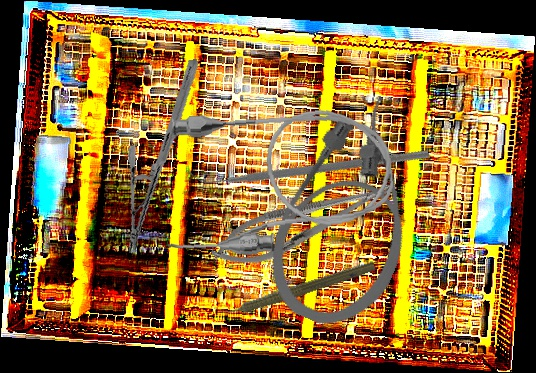Cannula: (249, 79, 456, 343), (157, 99, 398, 262)
Chopper: (185, 43, 432, 282)
Handpiece: (213, 254, 377, 325)
Needle Holder: (94, 58, 232, 254), (204, 165, 403, 280)
